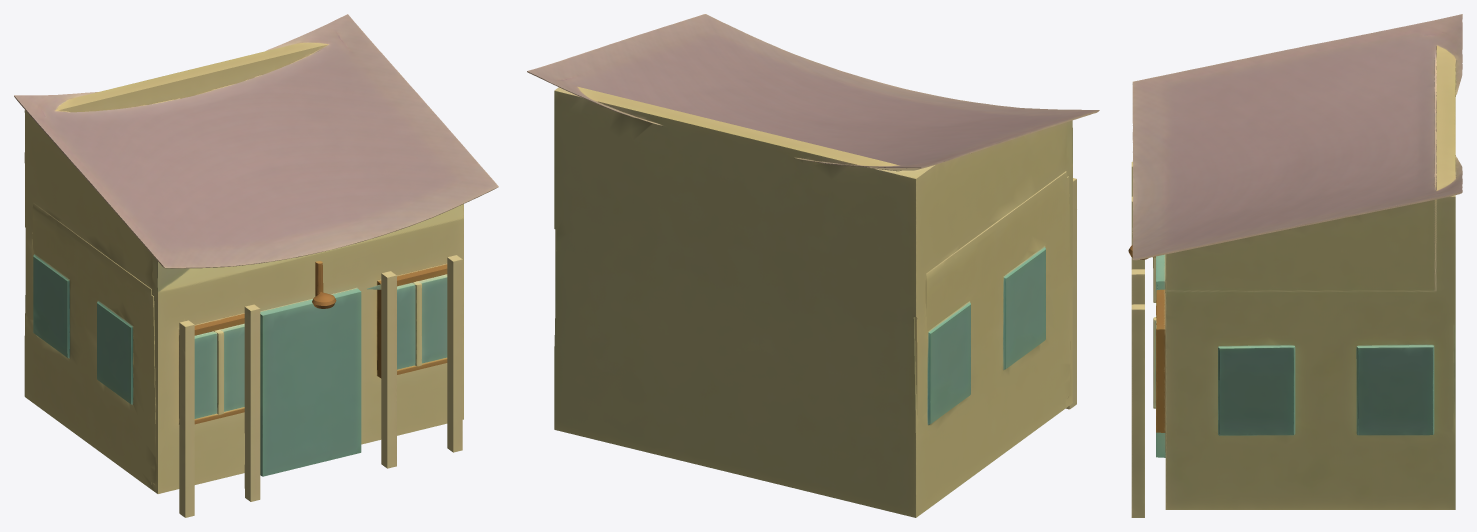
The model's file is source.glb.
3 views of the same model, side by side, from view 1: azimuth 30°, elevation 25°; view 2: azimuth 150°, elevation 25°; view 3: azimuth 270°, elevation 25° (orthographic). The views are drawn at different scales.
Visible parts, largest first — view 1: model; view 2: model; view 3: model.
Boxes of the visible parts, x1=… form: model: x1=14, y1=14, x2=498, y2=517; model: x1=527, y1=14, x2=1099, y2=517; model: x1=1128, y1=14, x2=1462, y2=517.
Size of the model in its own units: 1.88 by 1.7 by 1.49.
1 material, 1 textured.
